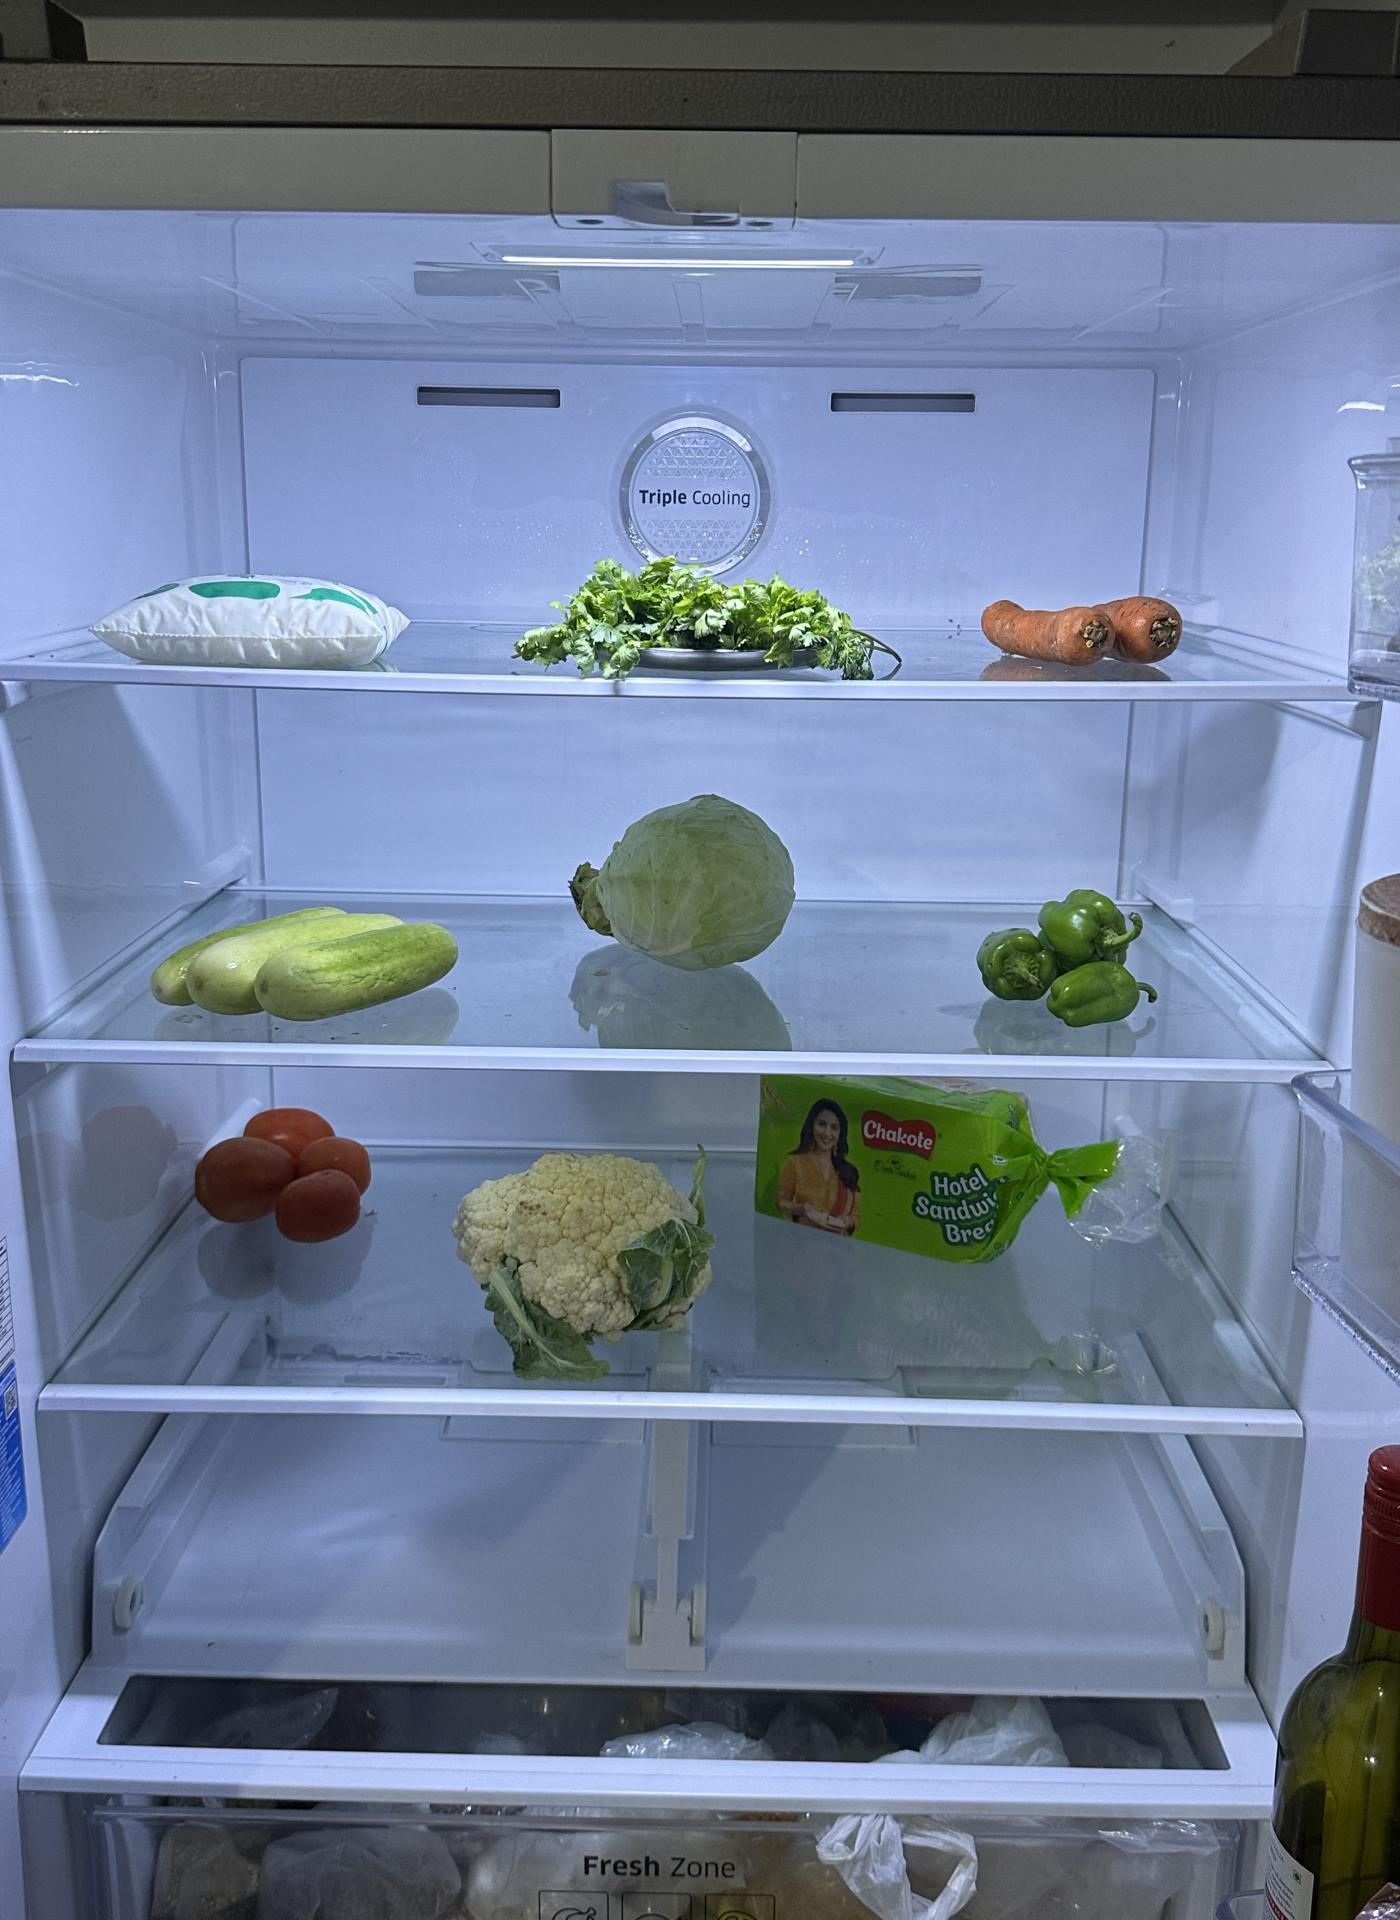bread: (748, 1075, 1053, 1264)
cabbage: (571, 784, 801, 964)
capsicum: (963, 869, 1145, 1023)
carrots: (980, 581, 1184, 674)
cauliflower: (464, 1145, 714, 1351)
coriander: (517, 543, 881, 671)
cucumber: (154, 905, 470, 1032)
milk: (88, 558, 413, 677)
tomato: (191, 1090, 380, 1234)
